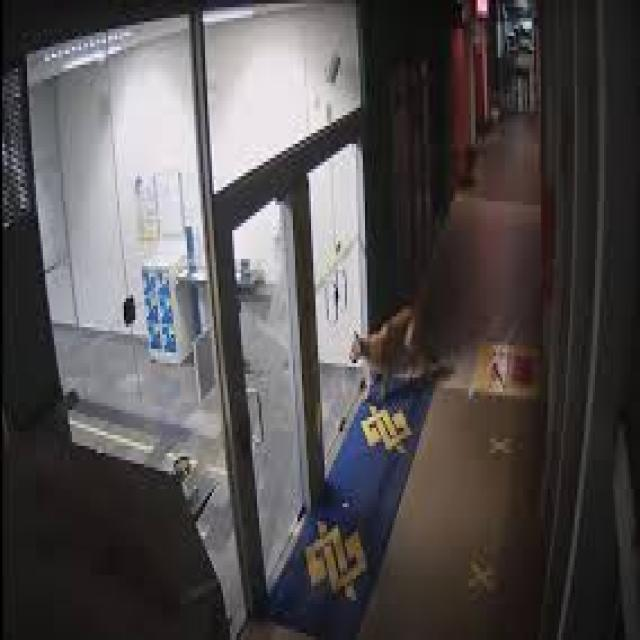Jaguar: (343, 306, 437, 396)
